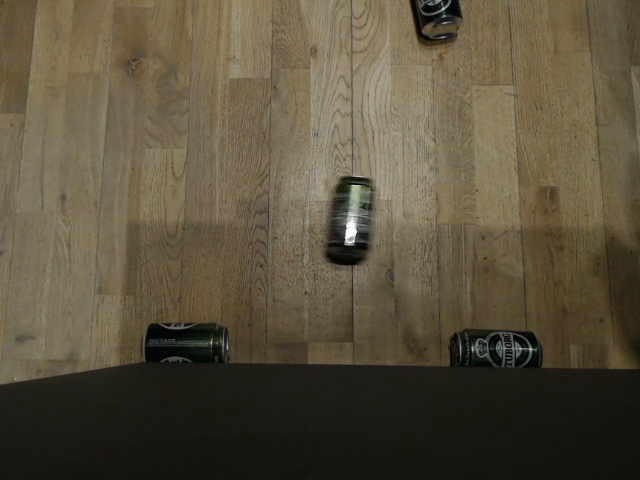beer: (329, 173, 371, 263)
